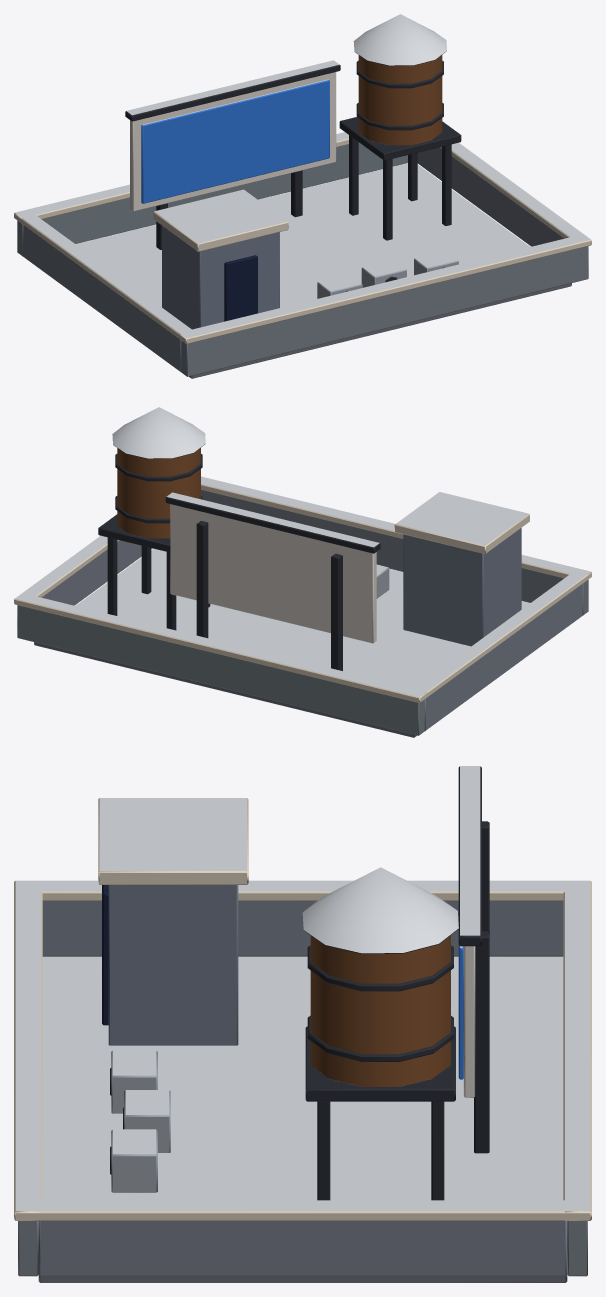
The model's file is Apartment_Grey_Roof.glb.
3 renders of one model, top to bottom at view 1: azimuth 30°, elevation 25°; view 2: azimuth 150°, elevation 25°; view 3: azimuth 270°, elevation 25°, orthographic. The views are drawn at different scales.
Visible parts, largest first — view 1: Apartment_Grey_Roof; view 2: Apartment_Grey_Roof; view 3: Apartment_Grey_Roof.
Part boxes in pixels (bbox=[...]): Apartment_Grey_Roof: bbox=[14, 14, 591, 378]; Apartment_Grey_Roof: bbox=[14, 407, 591, 737]; Apartment_Grey_Roof: bbox=[14, 766, 591, 1282].
Size of the model in its own units: 30.3 by 15.3 by 22.3.
